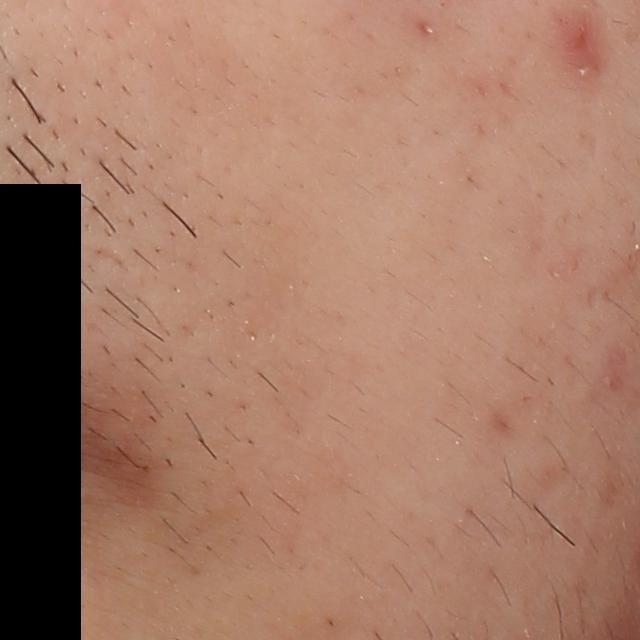atrophic_scar: (413, 20, 439, 40)
papule: (565, 18, 600, 59)
